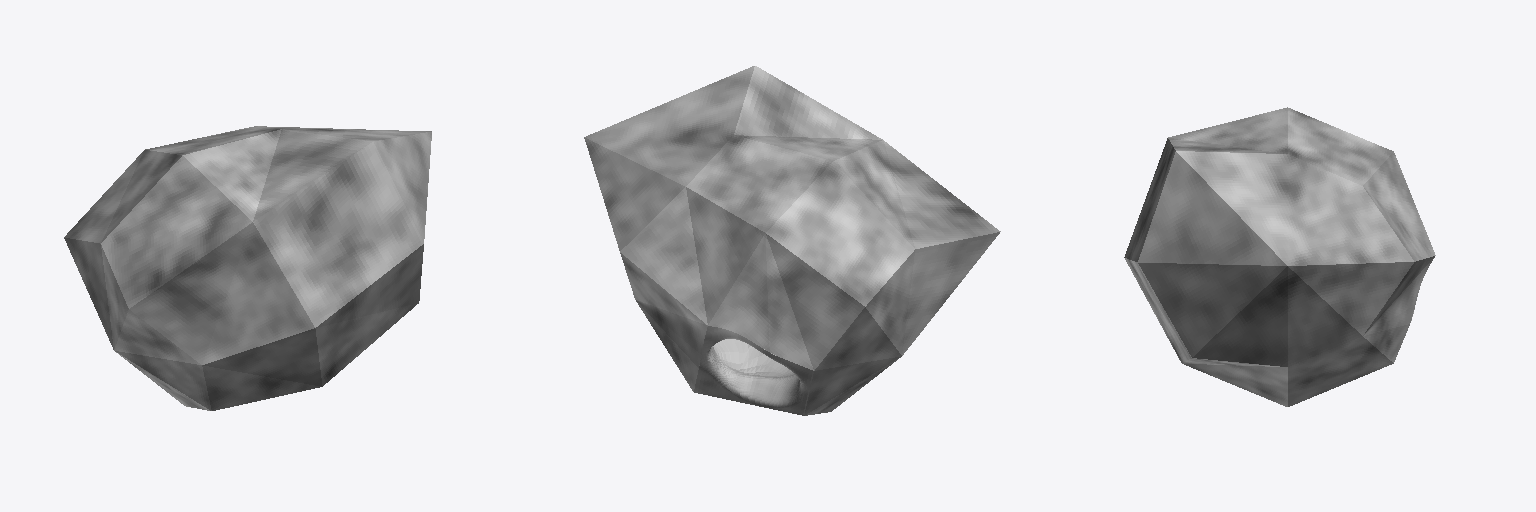
3 renders of one model, left to right at view 1: azimuth 30°, elevation 25°; view 2: azimuth 150°, elevation 25°; view 3: azimuth 270°, elevation 25°, orthographic.
Parts seen in each view (by area): view 1: asteroid3_asteroid.001; view 2: asteroid3_asteroid.001; view 3: asteroid3_asteroid.001.
Boxes of the visible parts, box(x1,y1,x2,y2) form: asteroid3_asteroid.001: box(64, 126, 431, 410); asteroid3_asteroid.001: box(584, 66, 1000, 415); asteroid3_asteroid.001: box(1124, 107, 1435, 406).
Bounding box in the file's own units: 3.17 × 2.3 × 2.38.
1 materials, 1 textured.